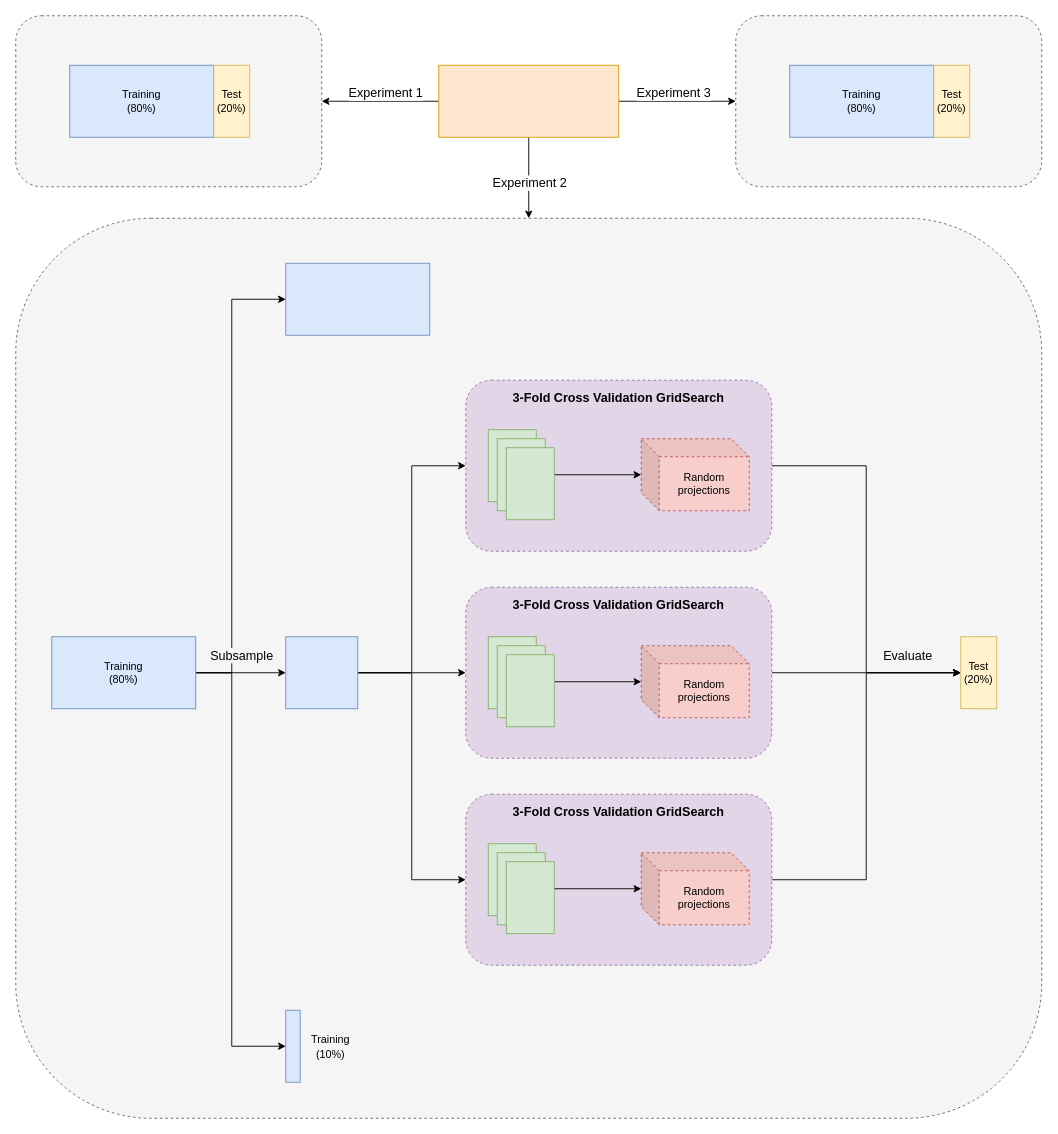
The diagram is 1058 pixels wide and 1134 high, and some of its shapes have lost their labels. Each missing label, with the centre of its shape:
"Dataset" belongs at (528,100).
"Training (100%)" belongs at (357,298).
"Training (50%)" belongs at (321,672).
